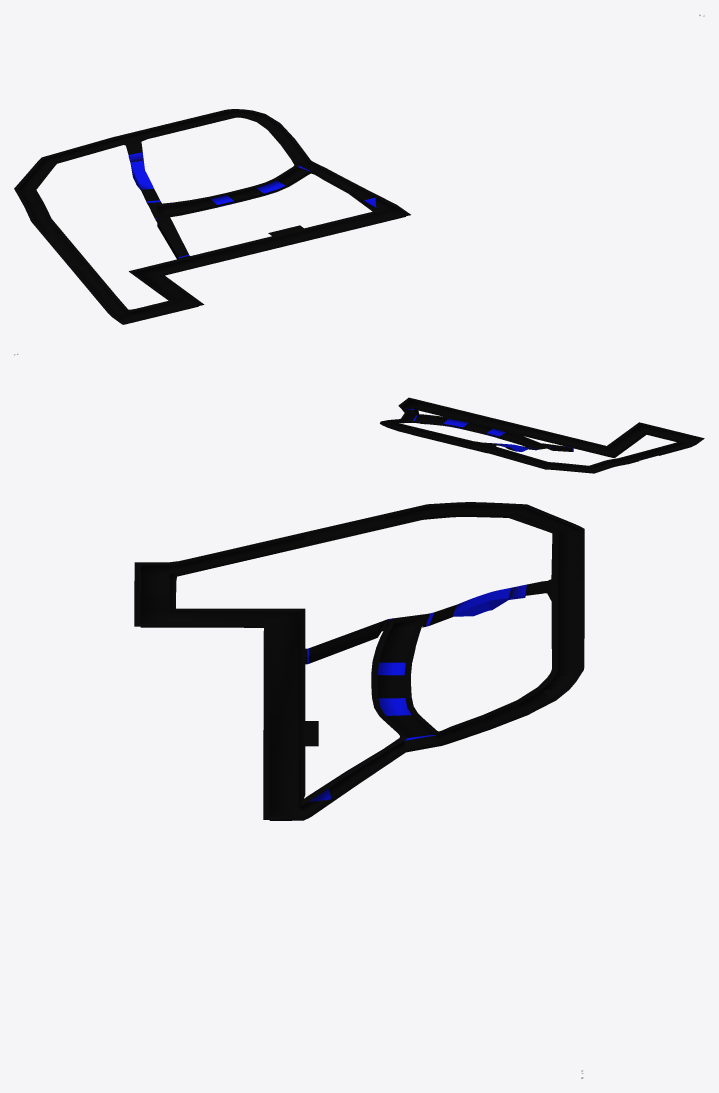
File: TownPath_collisionSetup.fbx
3 views of the same model, one above another, from view 1: azimuth 30°, elevation 25°; view 2: azimuth 150°, elevation 25°; view 3: azimuth 270°, elevation 25° (orthographic). The views are drawn at different scales.
Parts seen in each view (by area): view 1: collisionCube.006, collisionCube.005, collisionCube.001, collisionConvex.045, collisionConvex.194; view 2: collisionCube.006, collisionCube.001, collisionCube.005, collisionConvex.143, collisionConvex.201; view 3: collisionCube.006, collisionCube.005, collisionCube.001, collisionConvex.045, collisionConvex.062, collisionConvex.194.
Part boxes in pixels (<box>): collisionCube.006: <box>116,207,405,324</box>; collisionCube.005: <box>129,213,368,272</box>; collisionCube.001: <box>159,214,410,274</box>; collisionConvex.045: <box>157,220,188,259</box>; collisionConvex.194: <box>73,264,112,299</box>; collisionCube.006: <box>402,400,699,457</box>; collisionCube.001: <box>409,397,607,448</box>; collisionCube.005: <box>424,410,614,457</box>; collisionConvex.143: <box>405,425,489,446</box>; collisionConvex.201: <box>411,433,489,453</box>; collisionCube.006: <box>140,566,305,820</box>; collisionCube.005: <box>299,609,318,794</box>; collisionCube.001: <box>263,624,269,819</box>; collisionConvex.045: <box>309,621,383,663</box>; collisionConvex.062: <box>453,588,510,616</box>; collisionConvex.194: <box>212,536,305,568</box>.
Size of the model in its own units: 34741 by 2650 by 11706.
